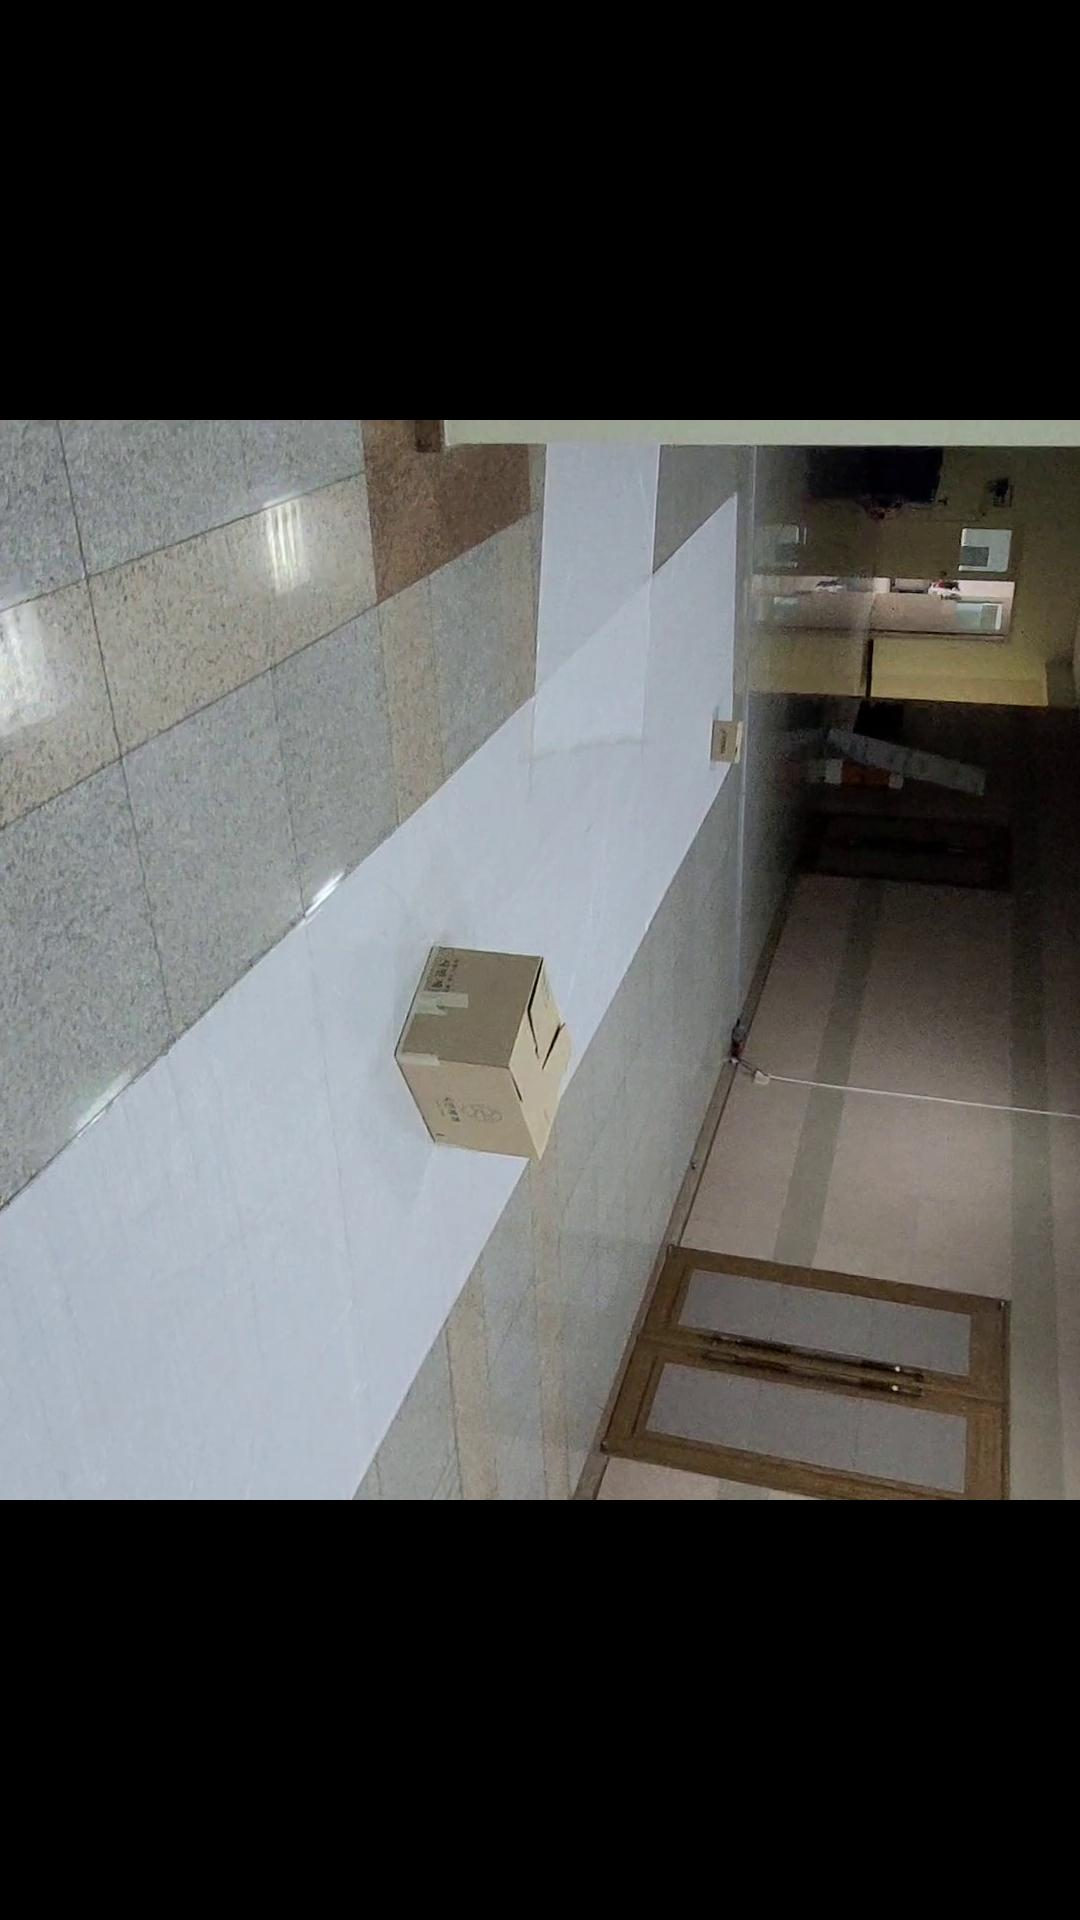Box: (365, 903, 607, 1187), (676, 694, 762, 812)
